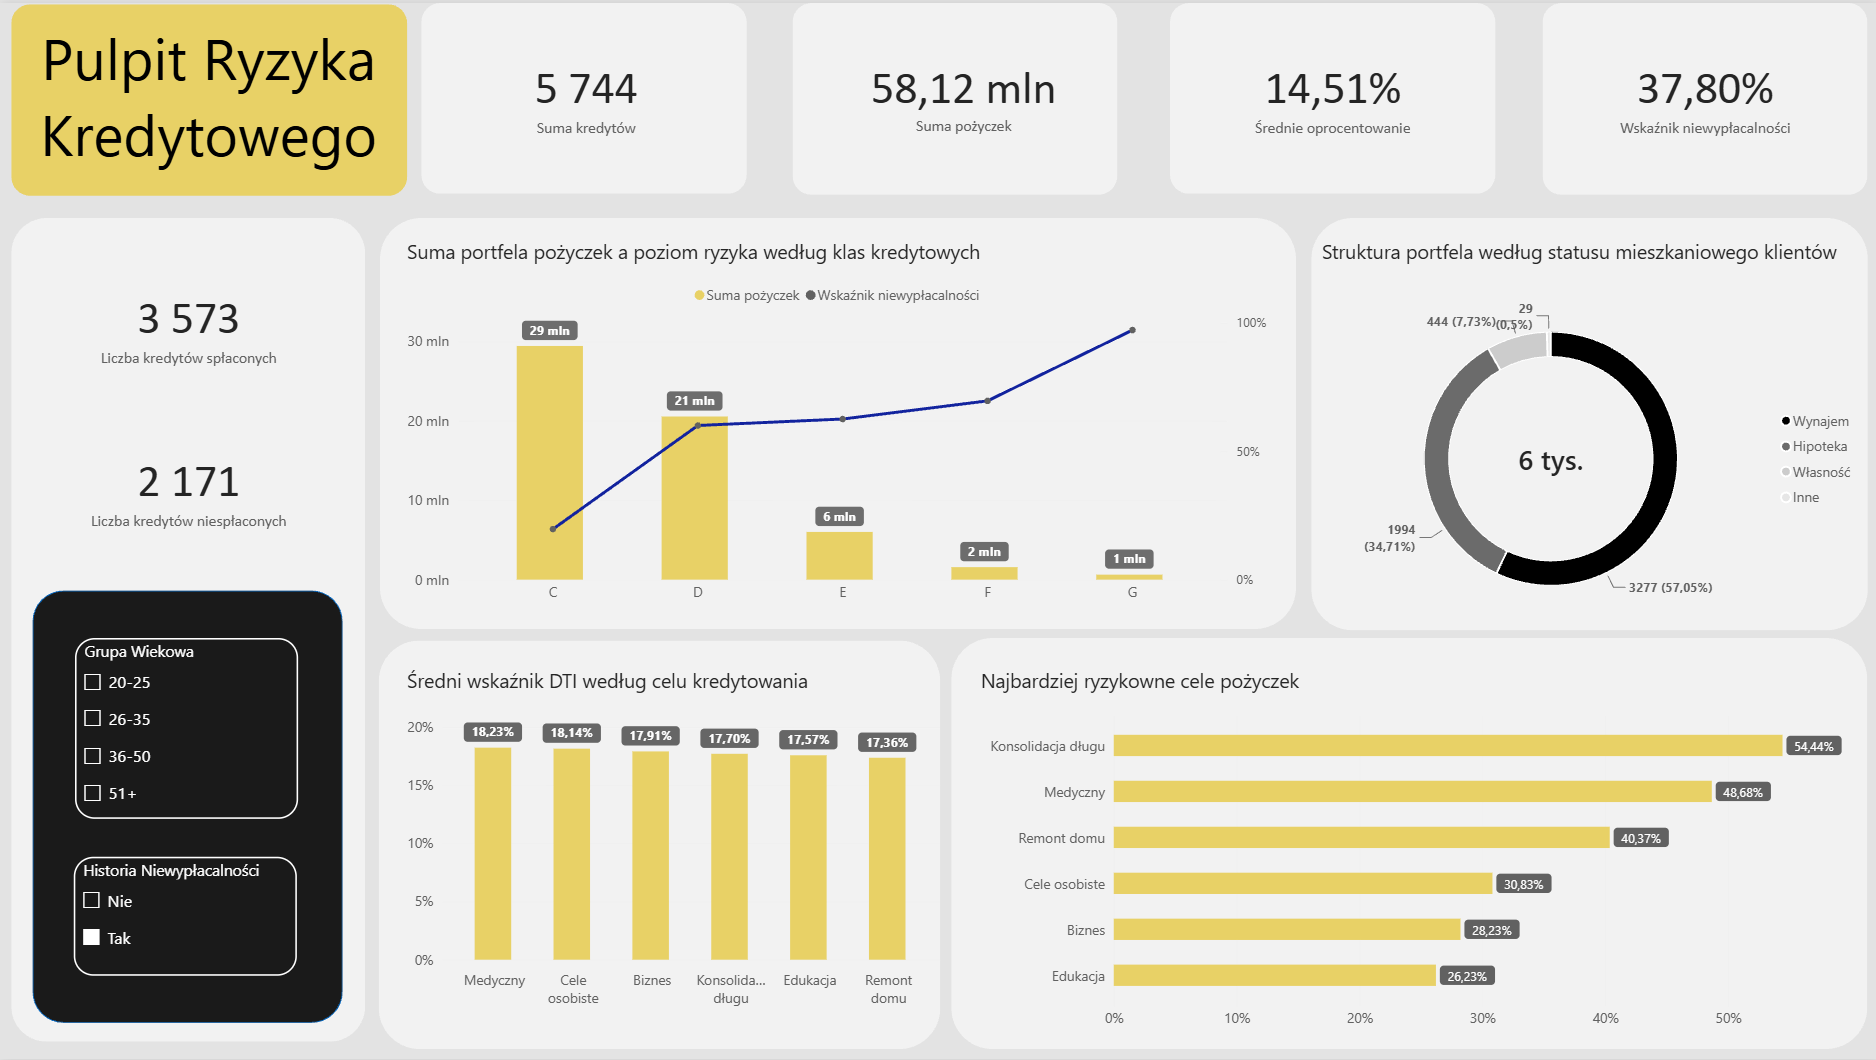

The dashboard page shown, as its layout file describes it:
{"tool":"powerbi","page":{"name":"Pulpit ryzyka kredytowego","canvas":[1920,1080],"ordinal":0},"visuals":[{"type":"shape","box":[11.2,1.9,404.6,195.8],"z":0},{"type":"shape","box":[387.5,651.2,573.8,417.5],"z":1000},{"type":"shape","box":[972.4,649.2,936,420],"z":2000},{"type":"shape","box":[388,220,936,420],"z":3000},{"type":"shape","box":[1340,220,568.8,421.2],"z":4000},{"type":"shape","box":[1576,0,332,196],"z":5000},{"type":"shape","box":[1196,0,332.5,195],"z":6000},{"type":"shape","box":[810,0,332,196],"z":7000},{"type":"shape","box":[430,0,332.5,195],"z":8000},{"type":"shape","title":"k1","box":[11.7,220,361.7,841.7],"z":9000},{"type":"shape","title":"k2","box":[33.6,600.4,317,441.9],"z":10000},{"type":"cardVisual","fields":{"Data":["credit_risk_dataset_cleaned.Suma Pożyczek"]},"box":[856,28,258,138],"z":11000},{"type":"cardVisual","fields":{"Data":["credit_risk_dataset_cleaned.Liczba Kredytów 1"]},"box":[470,27.5,258,140],"z":12000},{"type":"cardVisual","fields":{"Data":["credit_risk_dataset_cleaned.Wskaźnik Niewypłacalności (%)"]},"box":[1614,28,256,140],"z":13000},{"type":"cardVisual","fields":{"Data":["credit_risk_dataset_cleaned.Średnie Oprocentowanie (%)"]},"box":[1234,28,256,140],"z":14000},{"type":"slicer","fields":{"Values":["credit_risk_dataset_cleaned.Grupa Wiekowa"]},"box":[77.2,648.4,228.3,185],"z":15000},{"type":"lineStackedColumnComboChart","title":"Suma portfela pożyczek a poziom ryzyka według klas kredytowych","fields":{"Category":["credit_risk_dataset_cleaned.Klasa Kredytowa"],"Y":["credit_risk_dataset_cleaned.Suma Pożyczek"],"Y2":["credit_risk_dataset_cleaned.Wskaźnik Niewypłacalności (%)"]},"box":[399.4,225.8,914.7,407.2],"z":16000},{"type":"barChart","title":"Najbardziej ryzykowne cele pożyczek","fields":{"Category":["credit_risk_dataset_cleaned.Cel Pożyczki"],"Series":["credit_risk_dataset_cleaned.Cel Pożyczki"],"Y":["credit_risk_dataset_cleaned.Wskaźnik Niewypłacalności (%)"]},"box":[978.5,676.7,922.4,403.3],"z":17000},{"type":"donutChart","title":"Struktura portfela według statusu mieszkaniowego klientów","fields":{"Category":["credit_risk_dataset_cleaned.Status Mieszkaniowy"],"Y":["credit_risk_dataset_cleaned.Liczba Kredytów"]},"box":[1339.5,226.7,580.8,438],"z":18000},{"type":"slicer","fields":{"Values":["credit_risk_dataset_cleaned.Historia Niewypłacalności"]},"box":[75.3,872.2,228.3,121.7],"z":19000},{"type":"textbox","box":[15,15,396,182],"z":20000},{"type":"clusteredColumnChart","title":"Średni wskaźnik DTI według celu kredytowania","fields":{"Category":["credit_risk_dataset_cleaned.Cel Pożyczki"],"Y":["Avg(credit_risk_dataset_cleaned.Udział Pożyczki w Dochodzie (%))"]},"box":[399.4,663.8,576.7,380],"z":21000},{"type":"cardVisual","fields":{"Data":["credit_risk_dataset_cleaned.Liczba Niespłaconych 1"]},"box":[63.4,428.8,258,140],"z":22000},{"type":"cardVisual","fields":{"Data":["credit_risk_dataset_cleaned.Liczba Spłaconych 1"]},"box":[63.4,262.9,258,140],"z":23000}]}

Visuals, with their boxes in screenshot pixels (x1, y1, x2, y2), scaled from the page's 1920x1080 canvas onto the 1876x1060 screenshot:
shape: 11 2 406 194
shape: 379 639 939 1049
shape: 950 637 1865 1049
shape: 379 216 1294 628
shape: 1309 216 1865 629
shape: 1540 0 1864 192
shape: 1169 0 1493 191
shape: 791 0 1116 192
shape: 420 0 745 191
"k1" shape: 11 216 365 1042
"k2" shape: 33 589 343 1023
cardVisual - credit_risk_dataset_cleaned.Suma Pożyczek: 836 27 1088 163
cardVisual - credit_risk_dataset_cleaned.Liczba Kredytów 1: 459 27 711 164
cardVisual - credit_risk_dataset_cleaned.Wskaźnik Niewypłacalności (%): 1577 27 1827 165
cardVisual - credit_risk_dataset_cleaned.Średnie Oprocentowanie (%): 1206 27 1456 165
slicer - credit_risk_dataset_cleaned.Grupa Wiekowa: 75 636 298 818
"Suma portfela pożyczek a poziom ryzyka według klas kredytowych" lineStackedColumnComboChart: 390 222 1284 621
"Najbardziej ryzykowne cele pożyczek" barChart: 956 664 1857 1059
"Struktura portfela według statusu mieszkaniowego klientów" donutChart: 1309 223 1875 652
slicer - credit_risk_dataset_cleaned.Historia Niewypłacalności: 74 856 297 975
textbox: 15 15 402 193
"Średni wskaźnik DTI według celu kredytowania" clusteredColumnChart: 390 652 954 1024
cardVisual - credit_risk_dataset_cleaned.Liczba Niespłaconych 1: 62 421 314 558
cardVisual - credit_risk_dataset_cleaned.Liczba Spłaconych 1: 62 258 314 395
